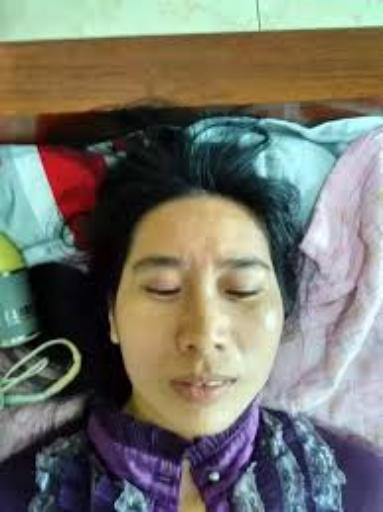left_eye: (222, 284, 269, 305)
left_lip_corner: (227, 372, 247, 390)
right_eye: (142, 283, 185, 305)
right_lip_corner: (167, 375, 183, 393)
